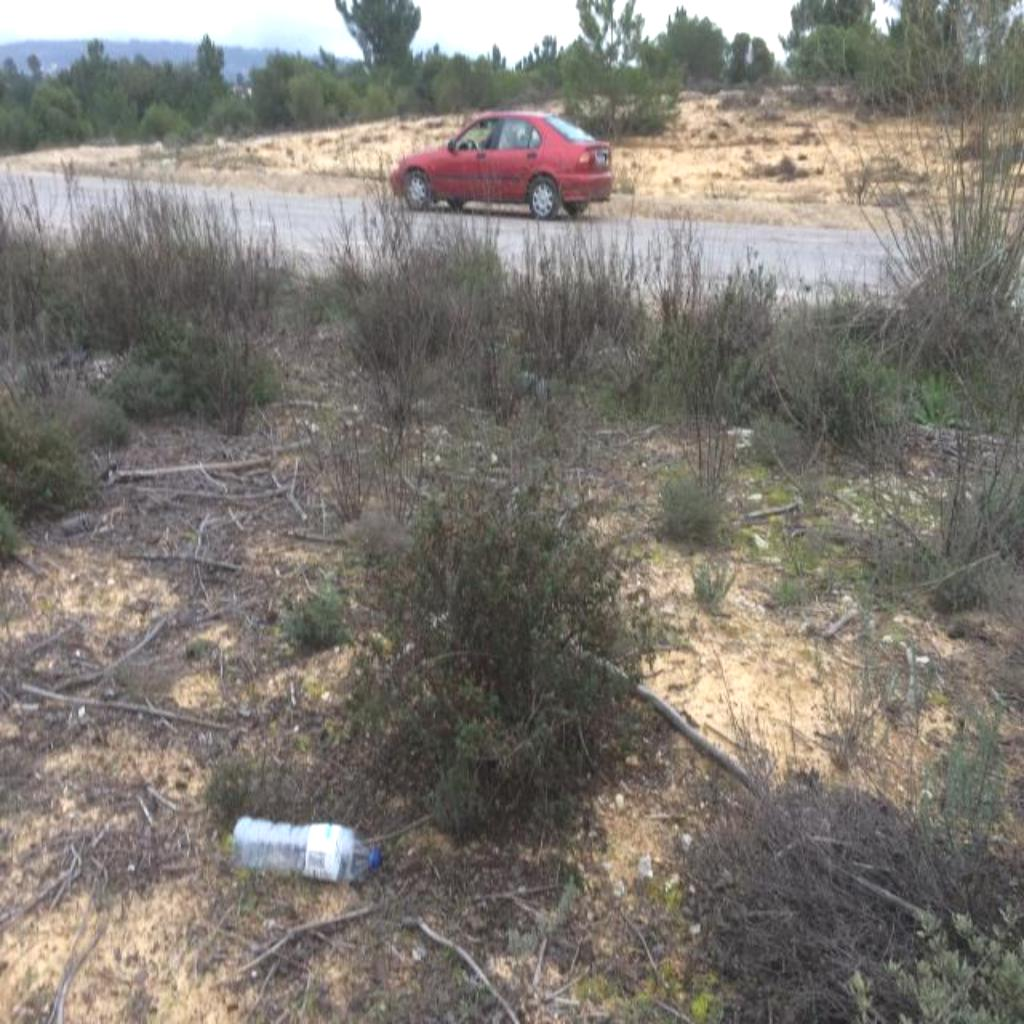garbage: (225, 818, 387, 890)
